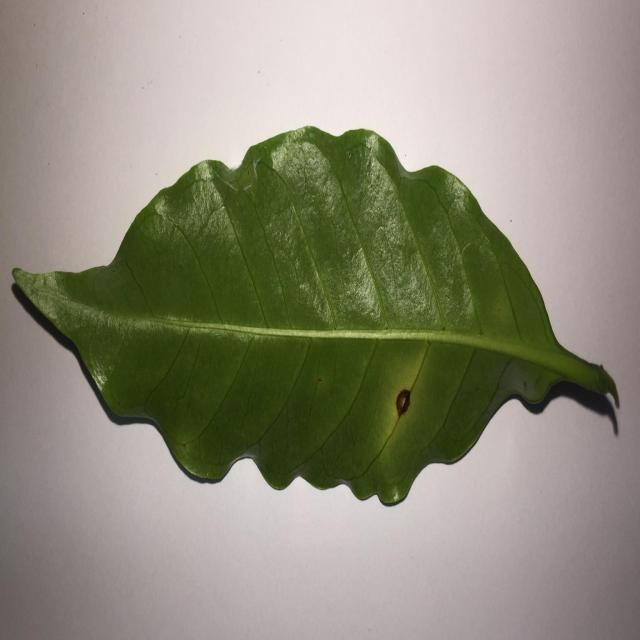Enfermedad-Mancha-de-hierro: (11, 126, 621, 510)
